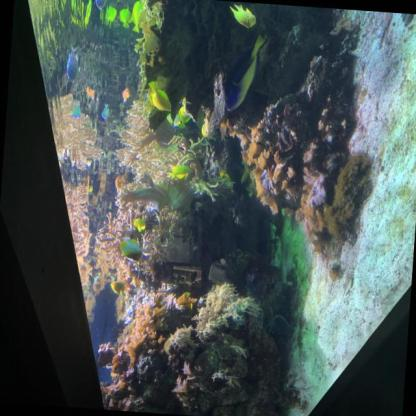fish: (220, 27, 269, 113), (226, 2, 258, 32), (147, 80, 173, 112), (116, 236, 144, 264), (65, 43, 82, 84), (128, 0, 147, 36), (208, 257, 229, 286), (168, 162, 193, 182), (108, 278, 127, 296), (177, 104, 190, 129), (118, 5, 131, 29), (104, 6, 118, 25), (119, 86, 132, 104), (132, 216, 146, 232), (100, 101, 111, 121), (198, 121, 209, 140), (92, 0, 110, 11), (71, 100, 82, 117)
